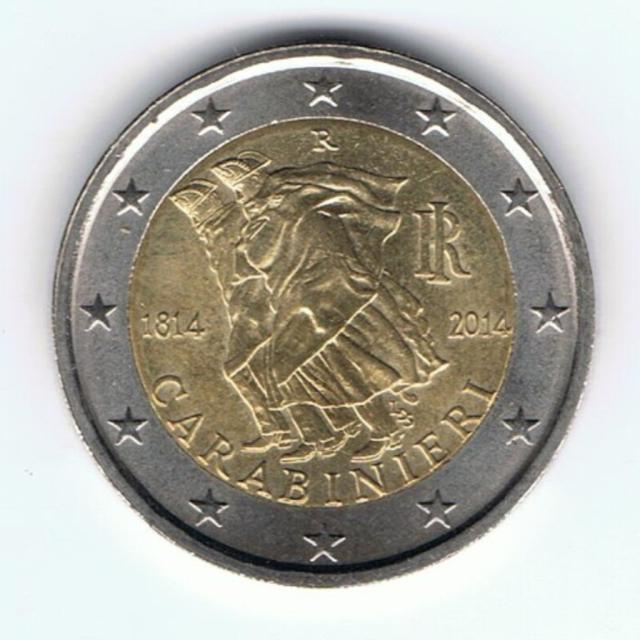Coin: (43, 39, 615, 595)
